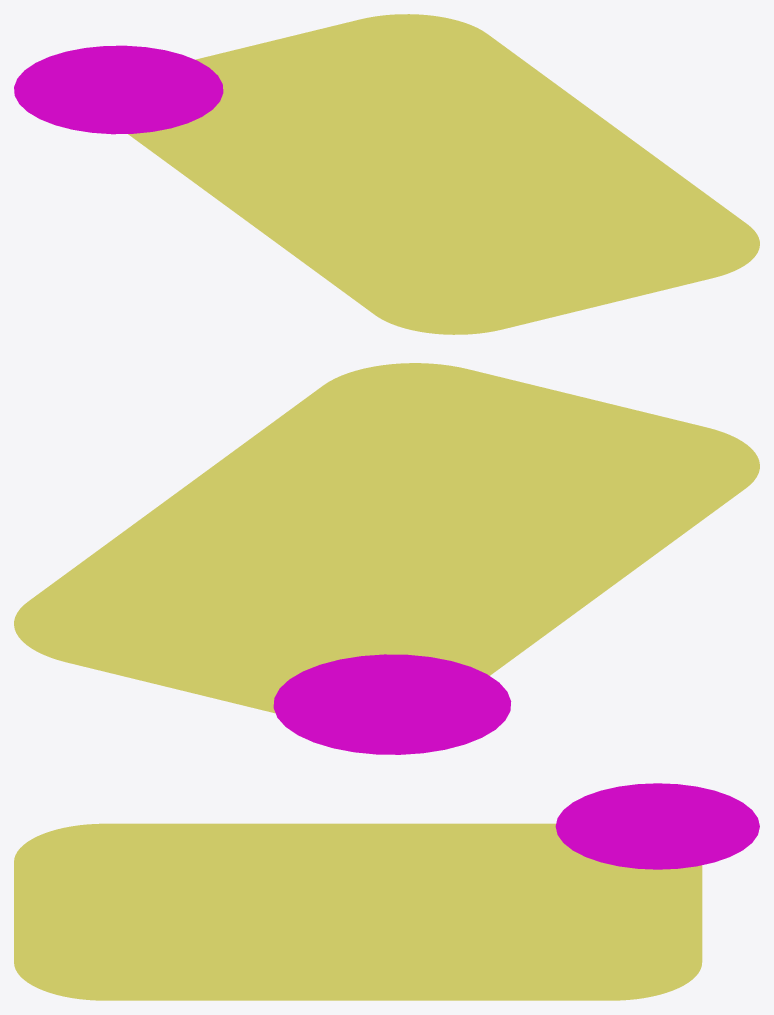
The picture shows the model from 3 angles, top to bottom: view 1: azimuth 30°, elevation 25°; view 2: azimuth 150°, elevation 25°; view 3: azimuth 270°, elevation 25°; orthographic projection. The views are drawn at different scales.
Visible parts, largest first — view 1: Text; view 2: Text; view 3: Text.
Boxes of the visible parts, left/top/right/bottom form: Text: left=14, top=14, right=759, bottom=334; Text: left=14, top=363, right=759, bottom=754; Text: left=14, top=783, right=759, bottom=1000.
Bounding box in the file's own units: 2.34 × 0.0544 × 3.56.
